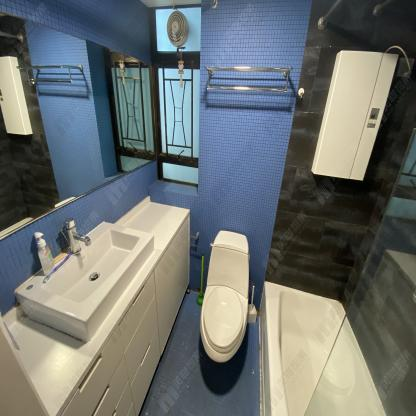Bathtub: (257, 280, 387, 416)
Exhaust Fan: (163, 10, 192, 48)
Toilet: (201, 231, 249, 363)
Toilet Sink: (12, 220, 154, 341)
Water Heater: (310, 51, 400, 181)
